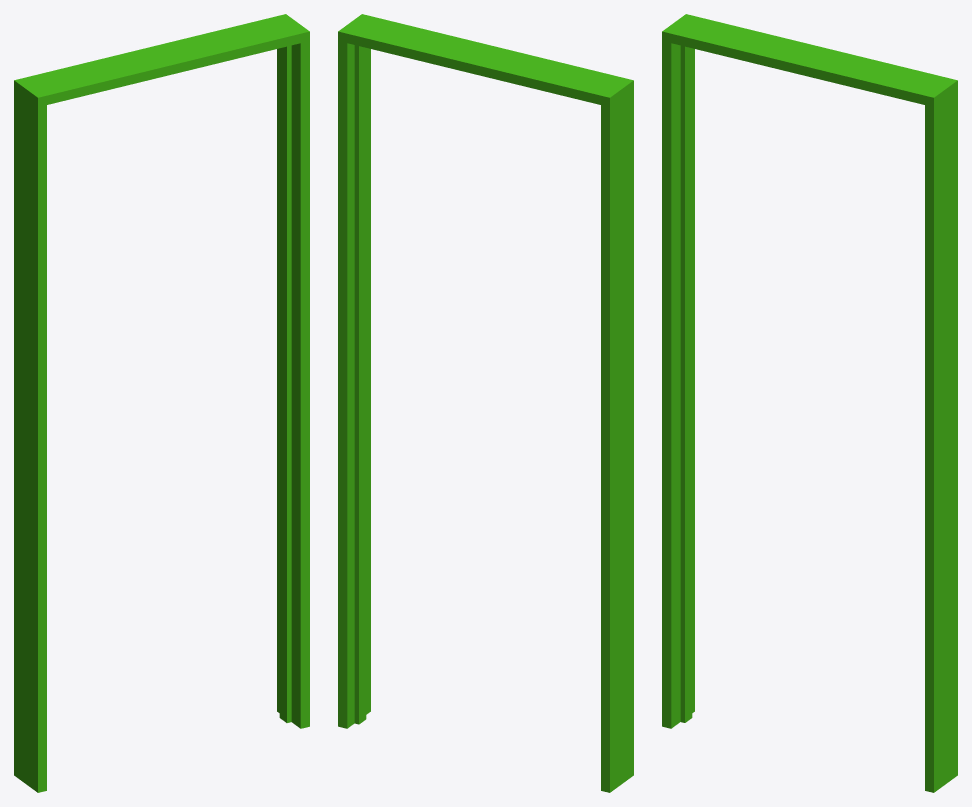
Rendered from SimpleDoorFrame_04.fbx.
The picture shows the model from 3 angles, left to right: view 1: azimuth 30°, elevation 25°; view 2: azimuth 150°, elevation 25°; view 3: azimuth 330°, elevation 25°; orthographic projection.
Visible parts, largest first — view 1: DoorFrame_01; view 2: DoorFrame_01; view 3: DoorFrame_01.
Part boxes in pixels (<box>): DoorFrame_01: <box>14,14,309,792</box>; DoorFrame_01: <box>338,14,633,792</box>; DoorFrame_01: <box>662,14,957,792</box>.
Bounding box in the file's own units: 29.53 × 4.5 × 72.17.
